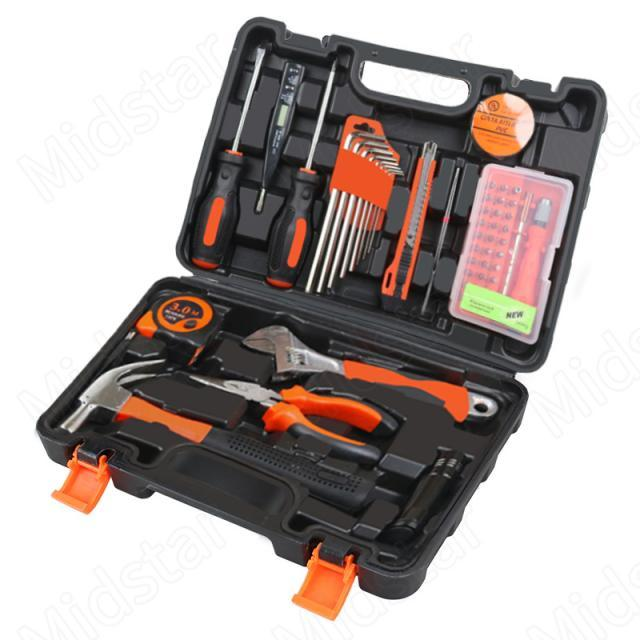hammer: (51, 350, 383, 518)
screwdriver: (175, 37, 276, 288), (262, 56, 348, 306)
